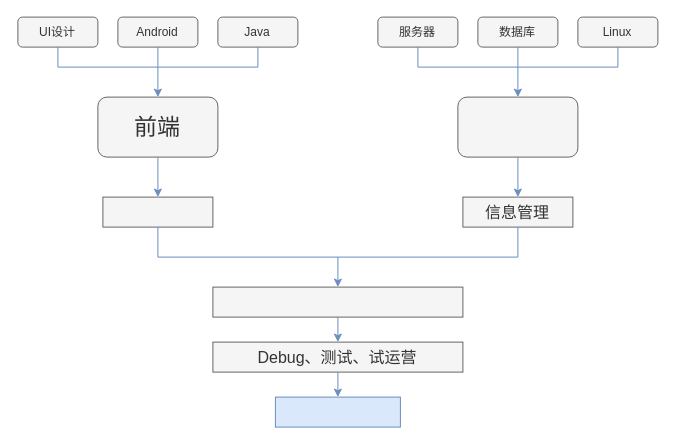
The diagram is 675 pixels wide and 445 high, and some of its shapes have lost their labels. The shapes that lost their labels are listed below. From the top down, each one's box as (x1, y1, x2, y2) in pixels, then its label:
(457, 96, 578, 157): 后台
(102, 196, 213, 227): 用户交互
(212, 286, 463, 317): 提供优质大学生心灵交流服务
(274, 396, 400, 427): 项目结题
